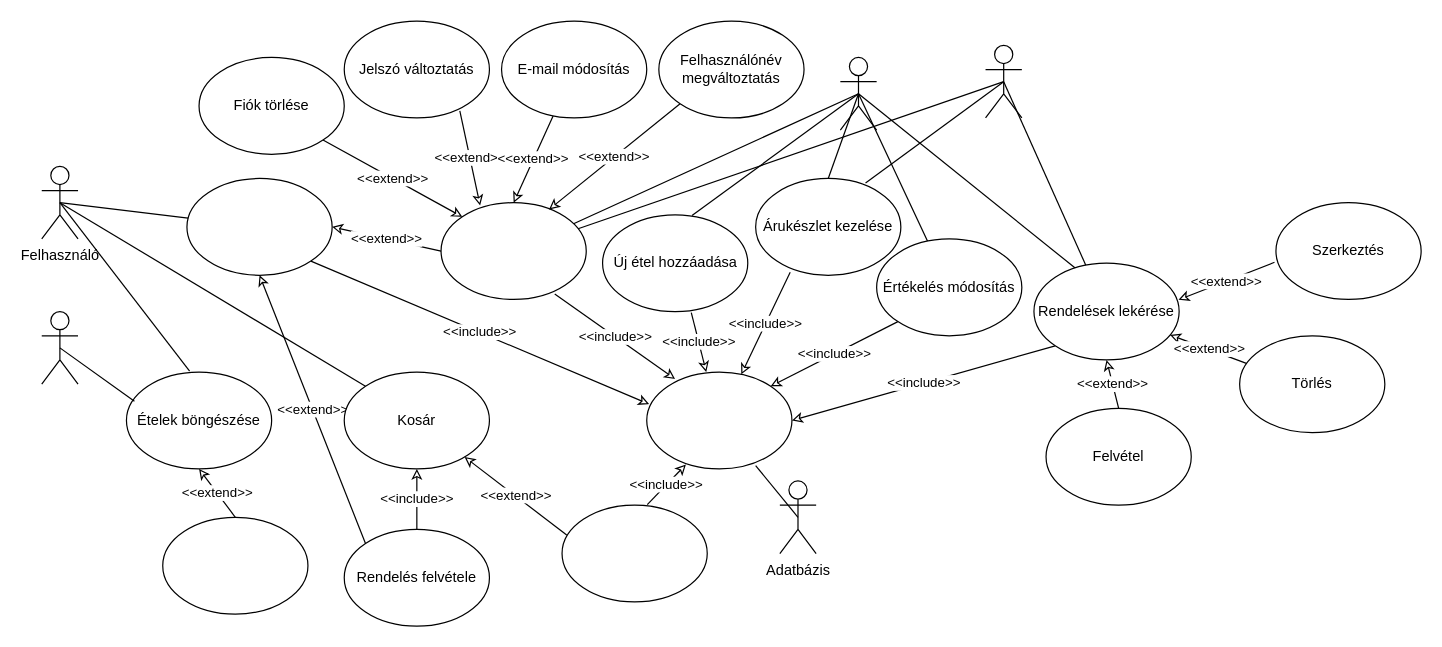
Some shapes in this 1442 by 647 pixel diagram are drawn without their labels. Each missing label, with the centre of its shape:
Adatmódosítás: [513,250]
Admin: [858,93]
Dolgozó: [1003,81]
Fizetés: [634,553]
Regisztráció: [259,226]
Szűrés: [235,565]
Validáció és feldolgozás: [719,420]
Vendég: [59,347]
